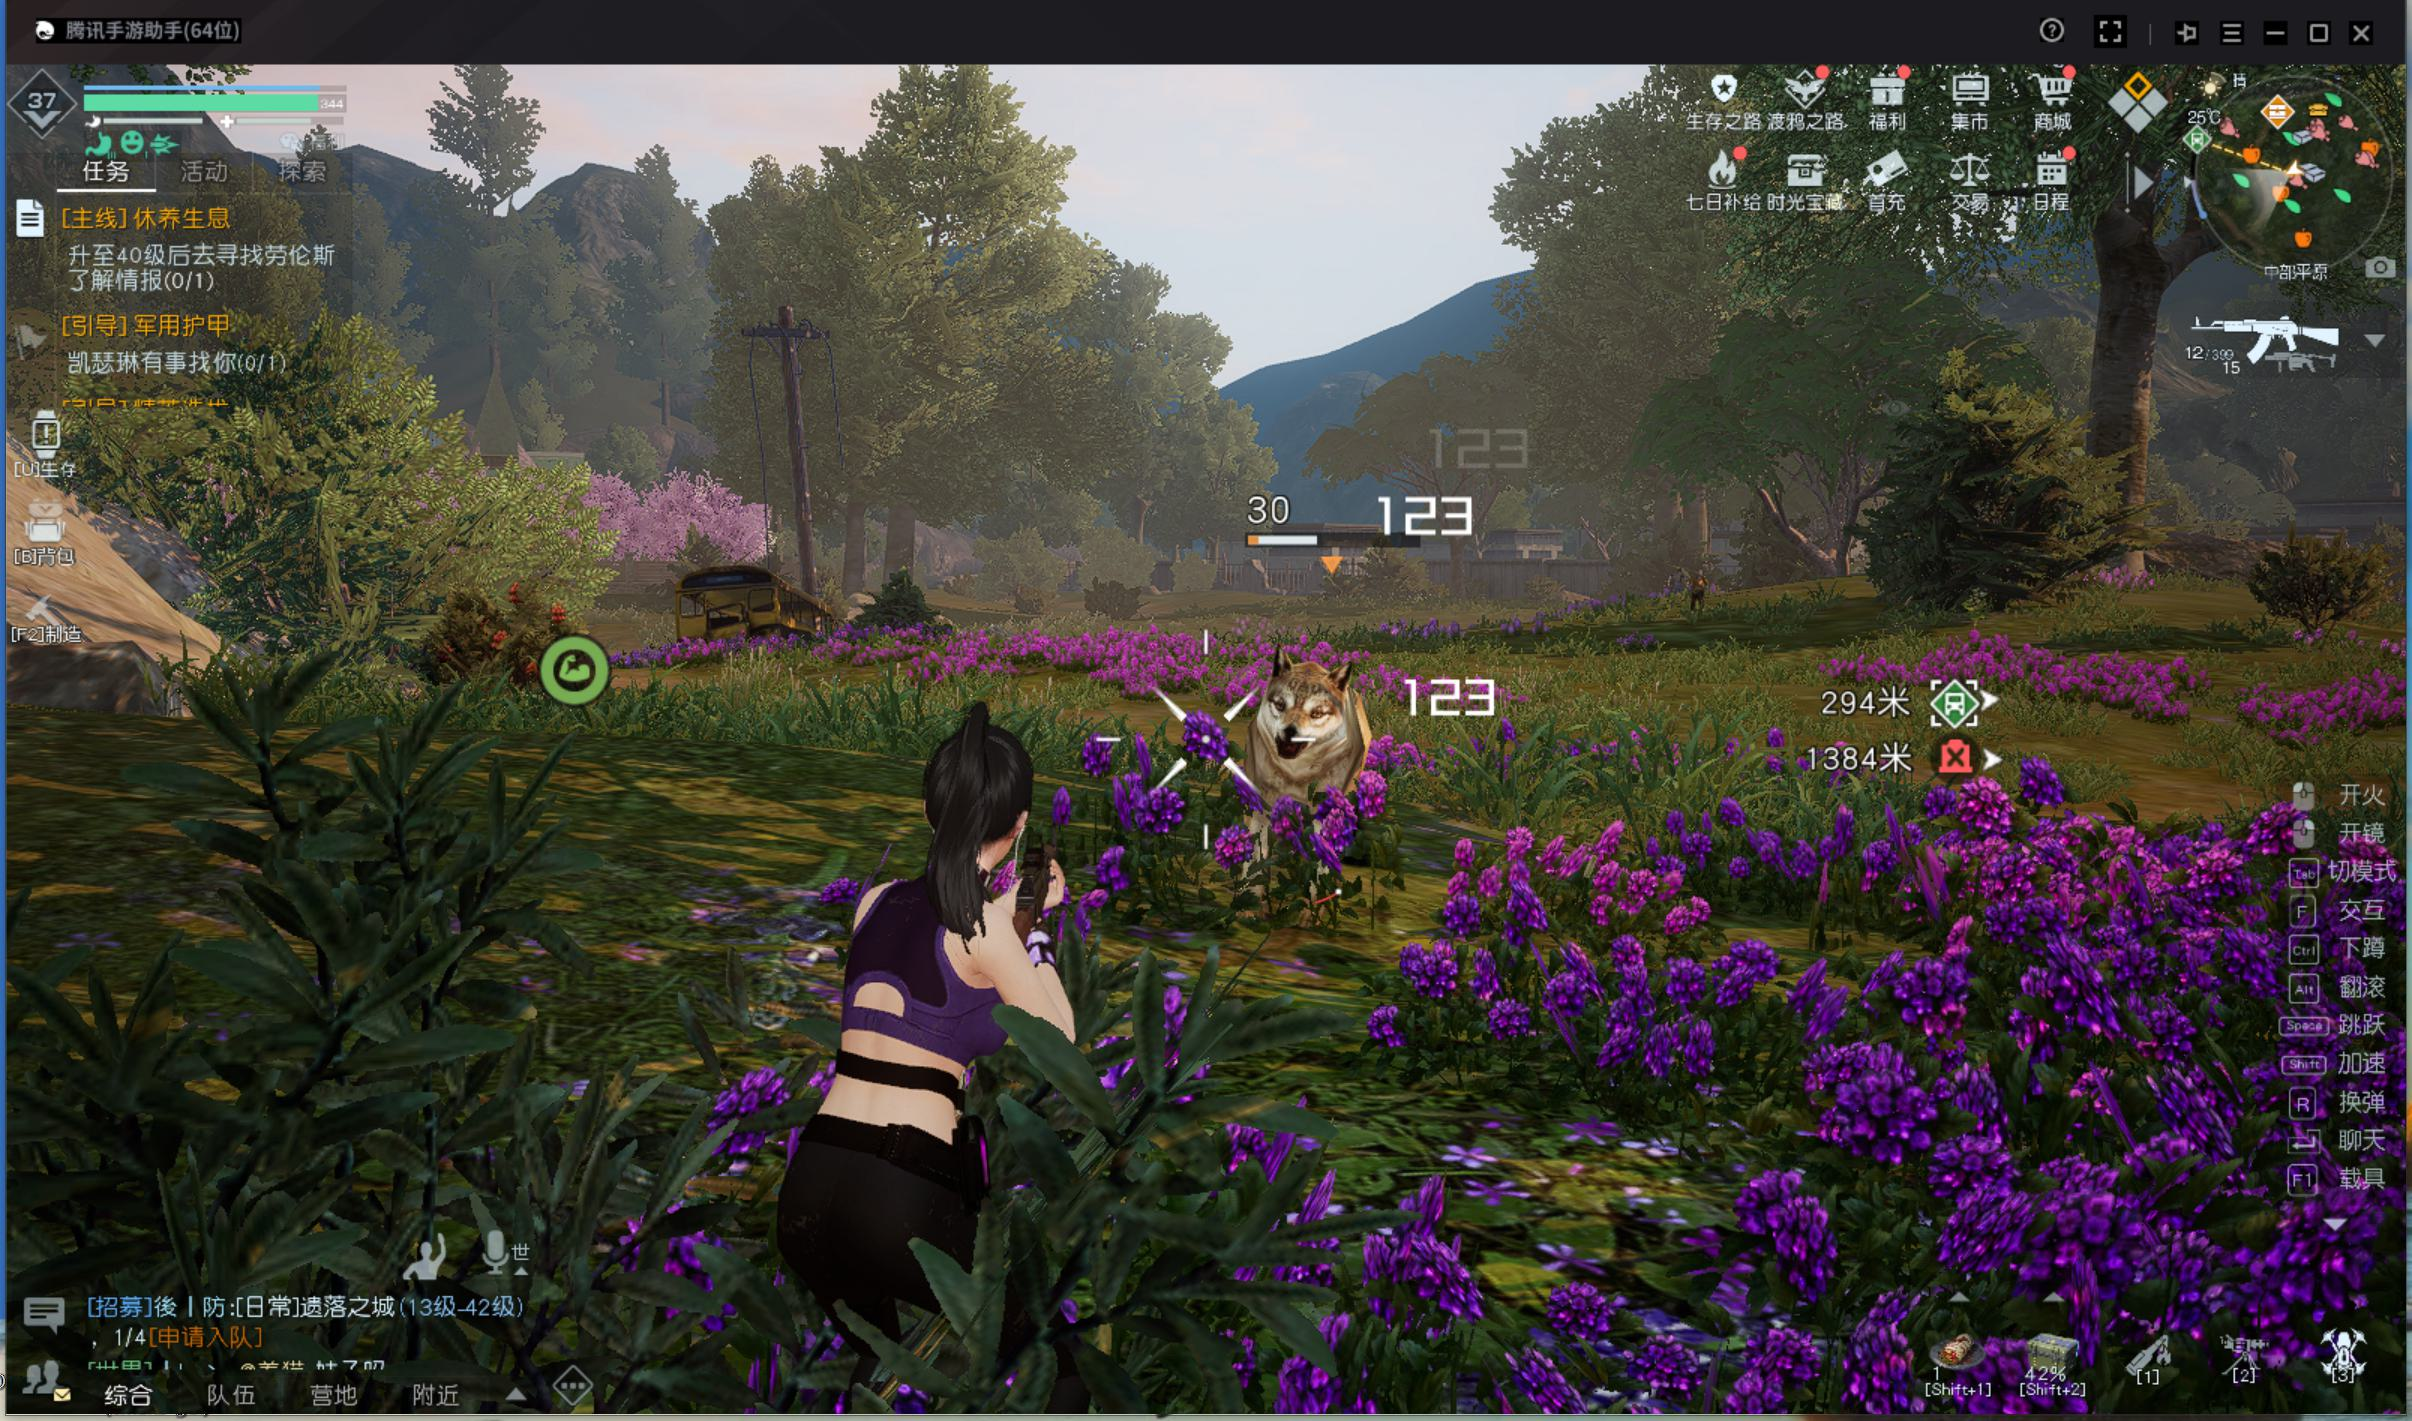tree: (2080, 277, 2163, 602)
